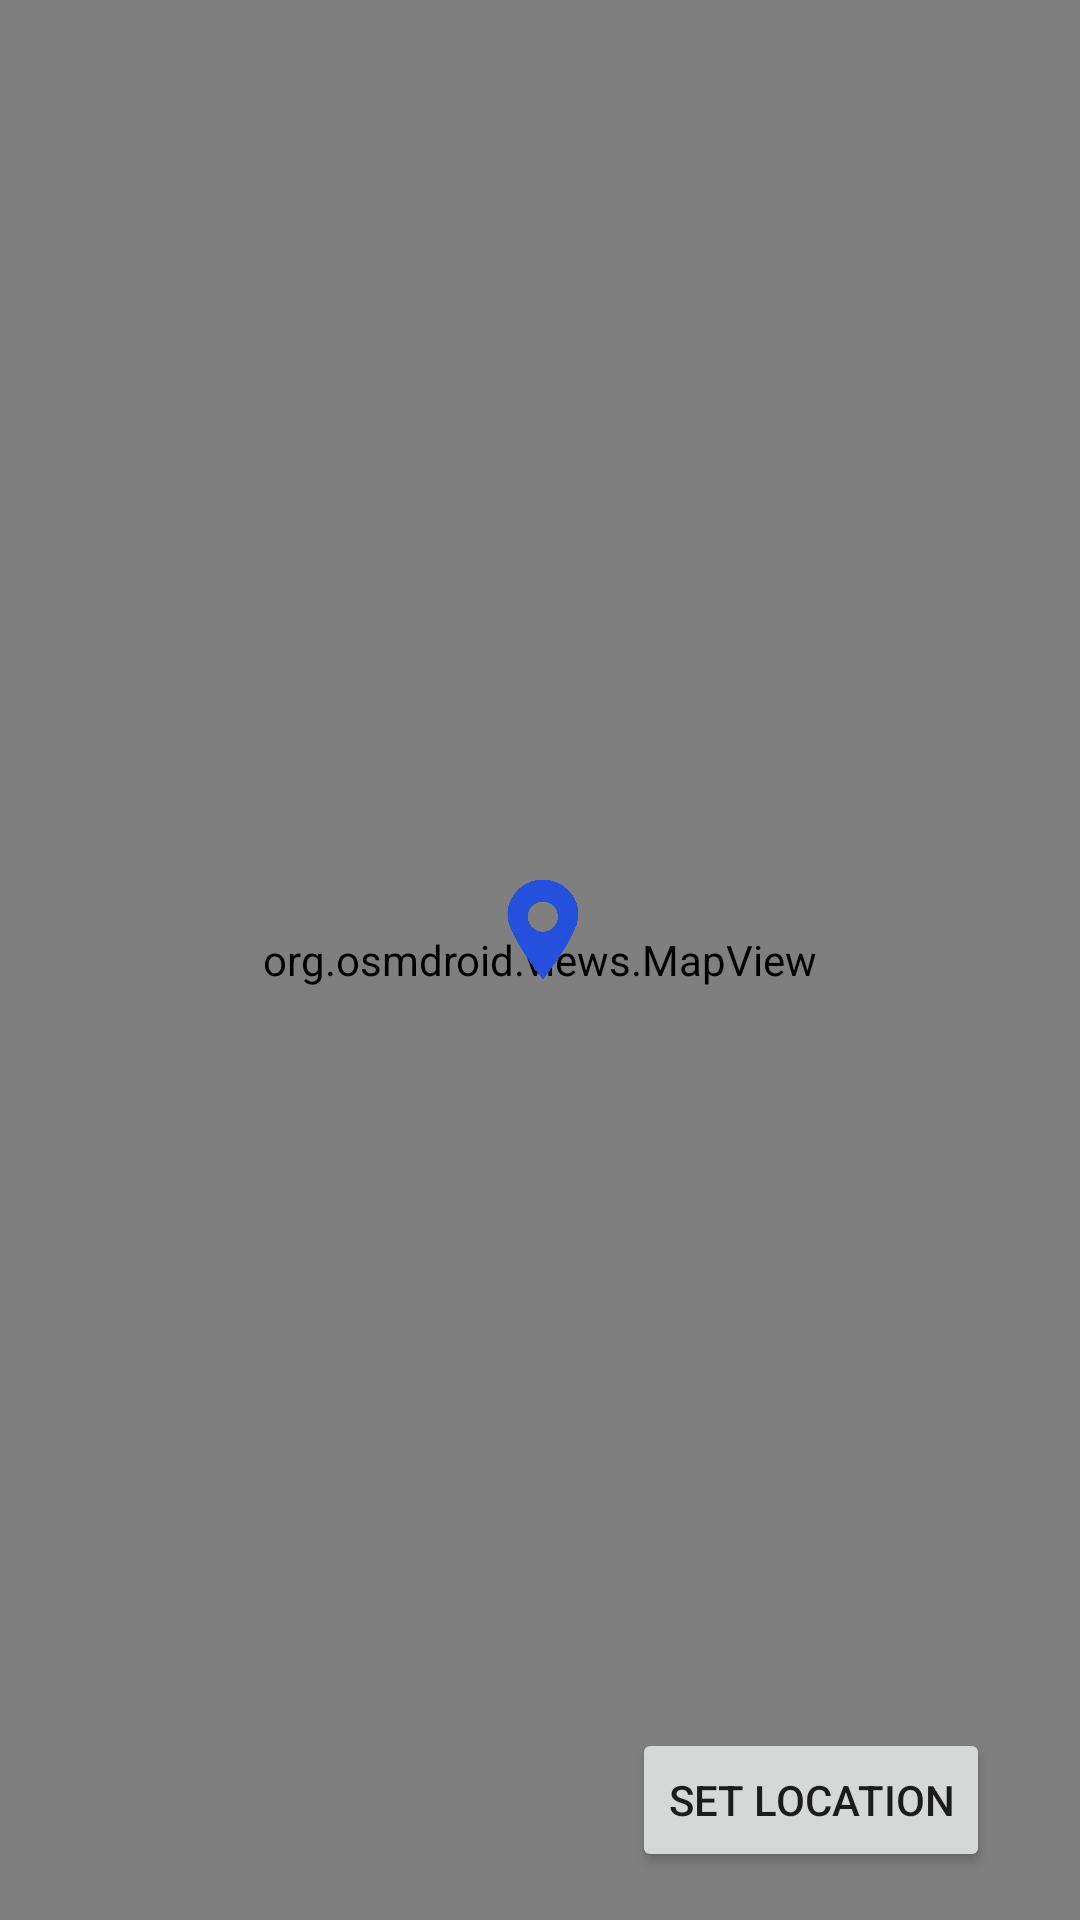

Icon bounding boxes for this 1080×1920 phone screenshot, format detection(x1, y1, x2, y2):
pinpoint bright: detection(492, 880, 578, 979)
